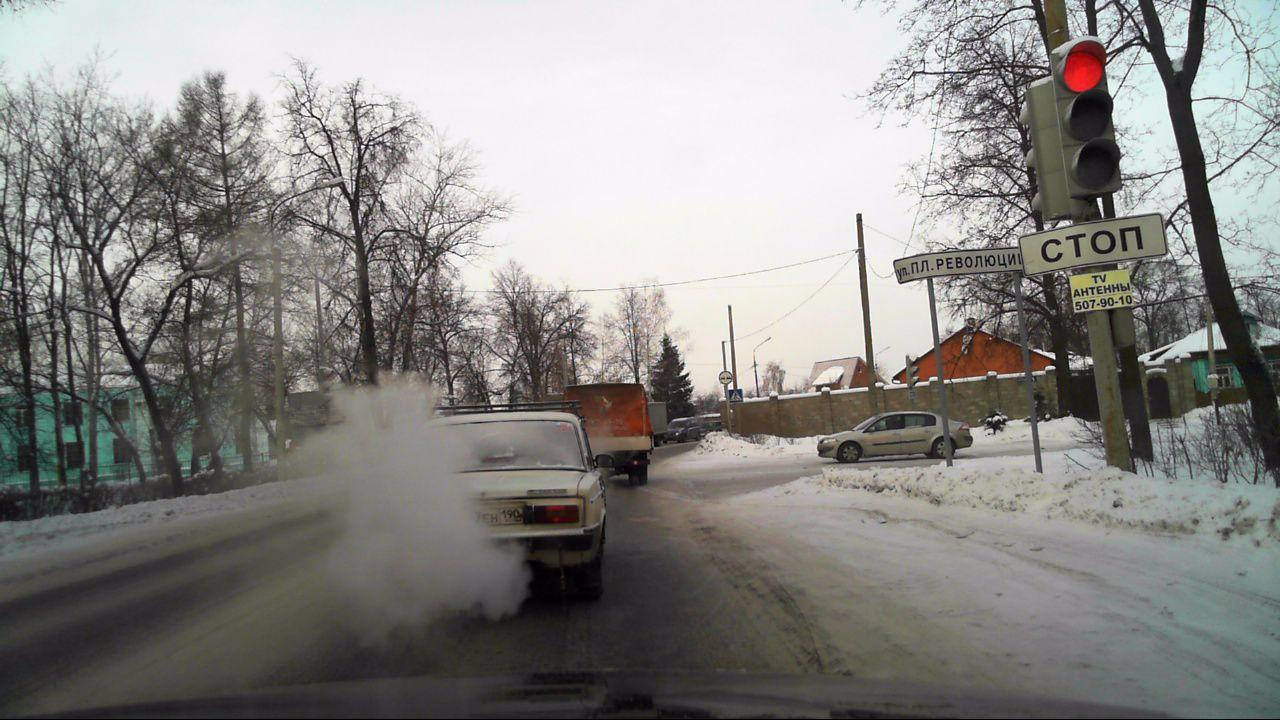3_20: (719, 370, 733, 384)
5_19_1: (728, 389, 743, 403)
6_11: (893, 246, 1021, 284)
6_16: (1019, 212, 1167, 276)
